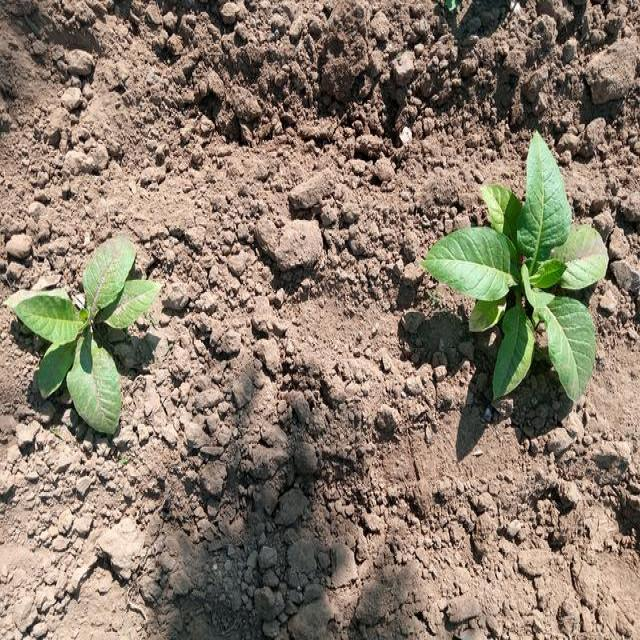crop: (436, 132, 590, 414), (21, 246, 150, 426)
